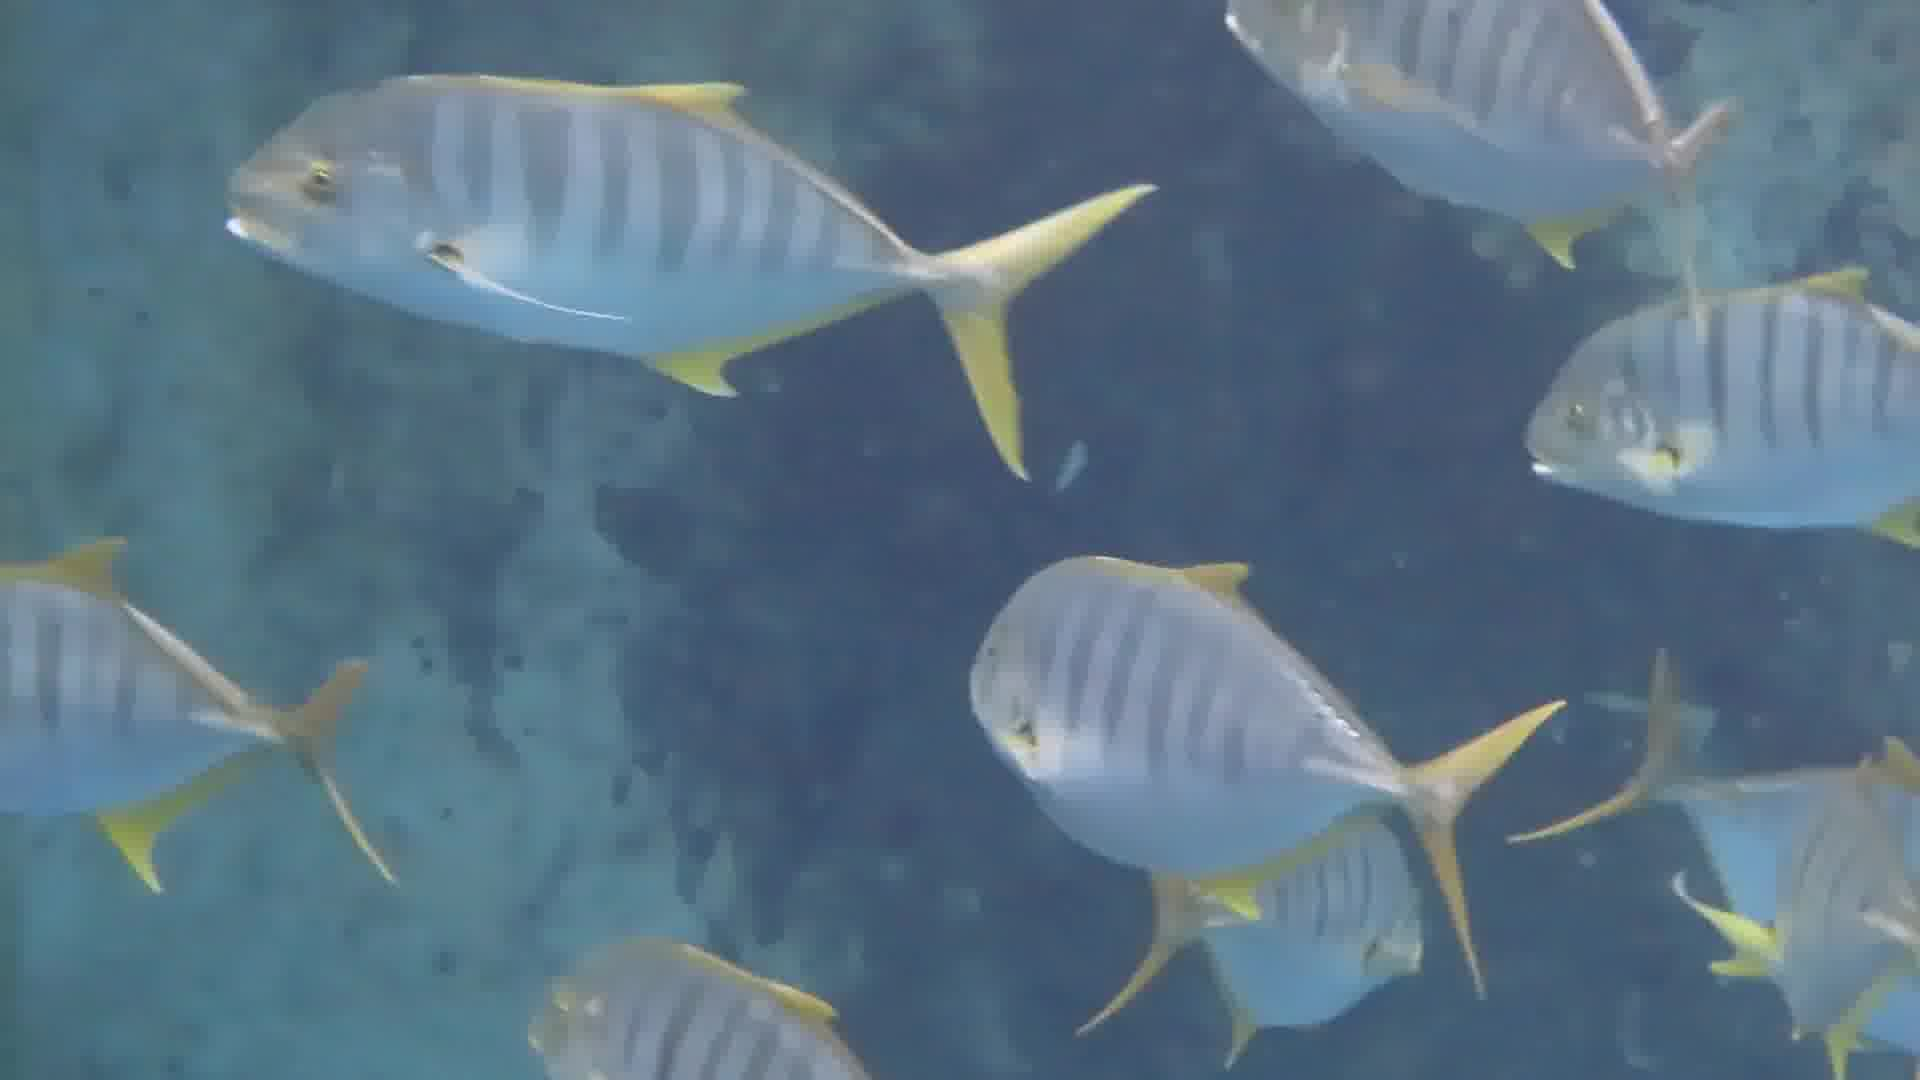Gnathanodon speciosus: (235, 55, 1044, 382), (913, 538, 1553, 940), (1519, 297, 1920, 539)
